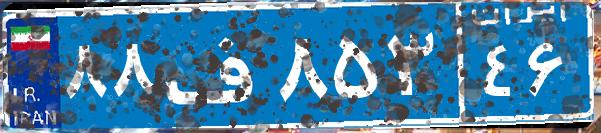3: (385, 28, 445, 110)
4: (475, 38, 525, 113)
5: (330, 28, 385, 110)
6: (525, 38, 570, 115)
8: (273, 28, 330, 110), (57, 26, 110, 107), (110, 28, 158, 105)
ف: (158, 15, 273, 115)
